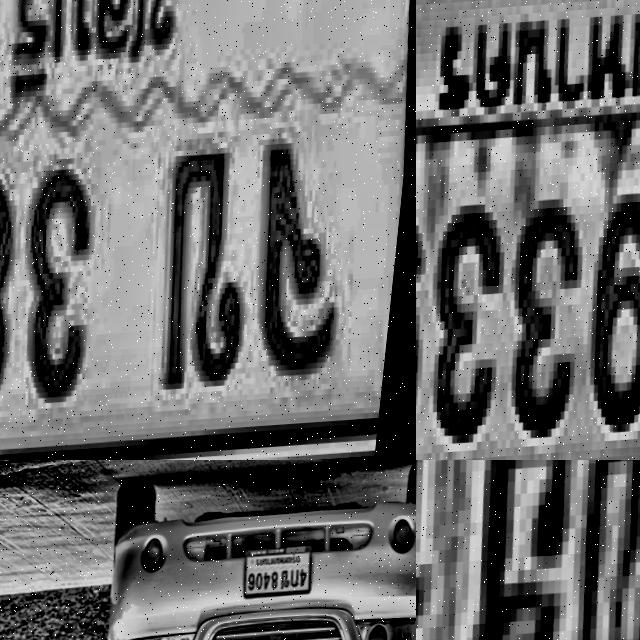license-plate: (0, 0, 416, 460), (416, 0, 640, 460), (416, 460, 640, 640), (244, 540, 320, 597)
